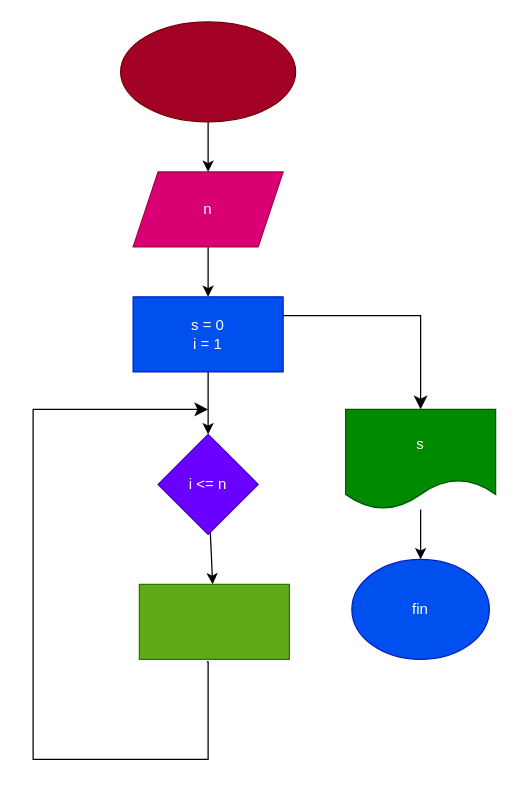
Some shapes in this 518 by 794 pixel diagram are drawn without their labels. Here are the shapes that lost their labels. From the top down, the centre of each, then its label:
(207,71): INICIO
(213,621): s = s + 1 i = i + 1
